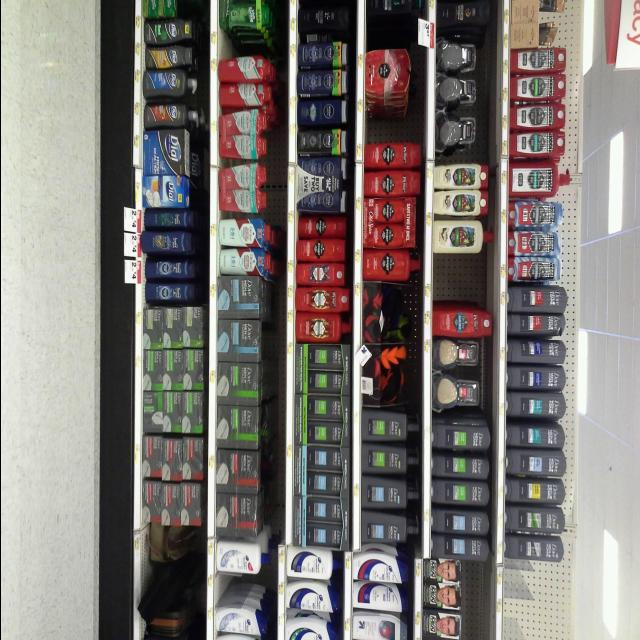empty_space: (501, 568, 559, 640), (434, 258, 489, 304), (218, 35, 269, 65), (371, 110, 413, 144), (367, 26, 399, 50)
